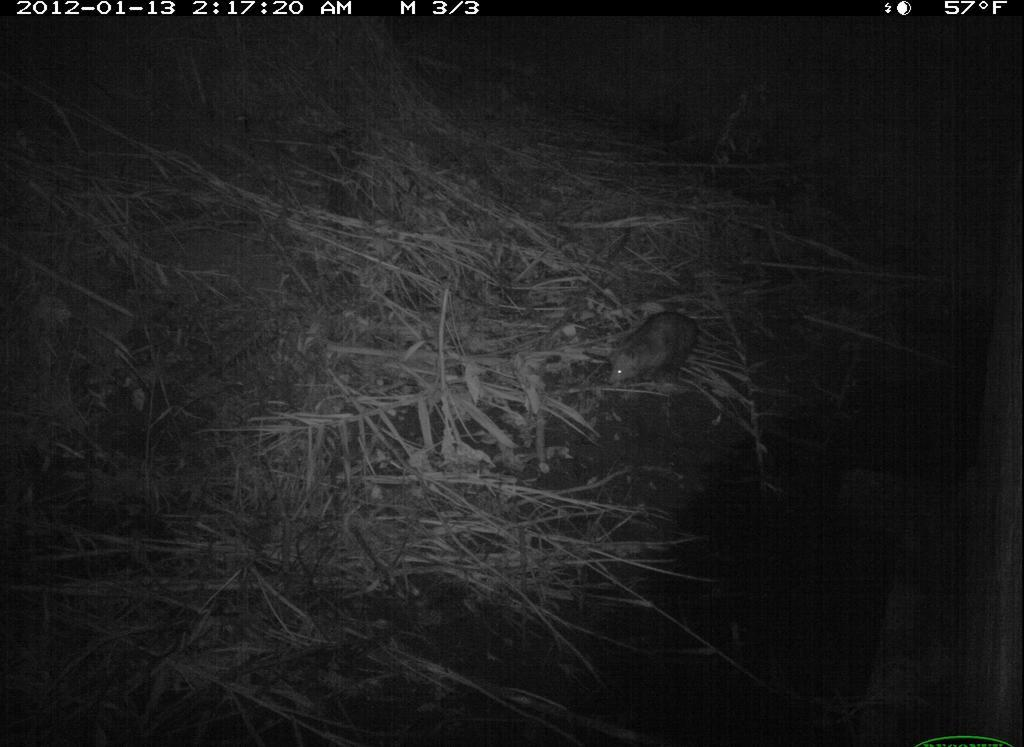opossum: (597, 300, 717, 404)
